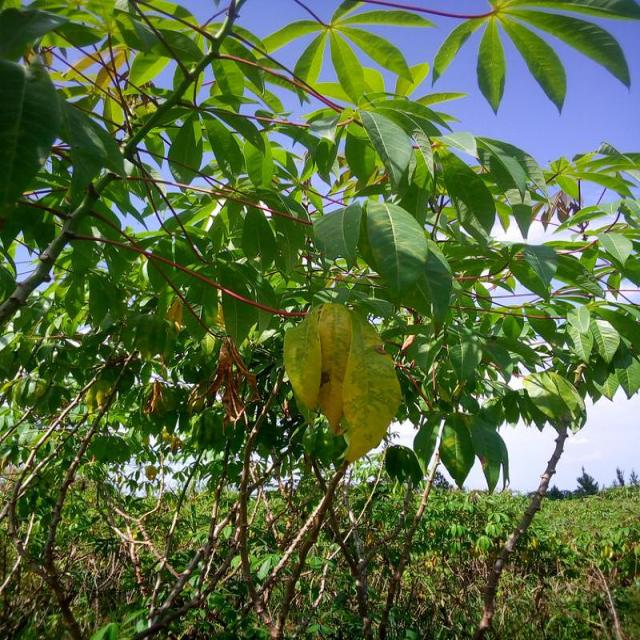cassava leaf: (1, 0, 638, 495), (283, 301, 402, 464)
